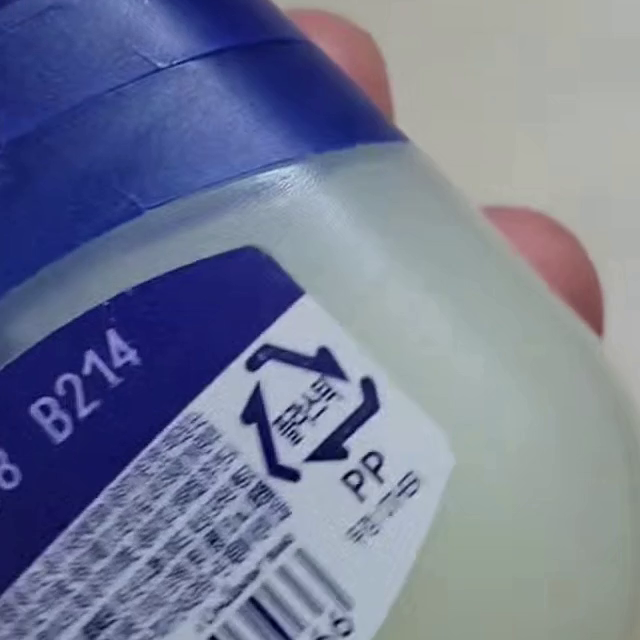Plastic: (242, 344, 380, 484)
